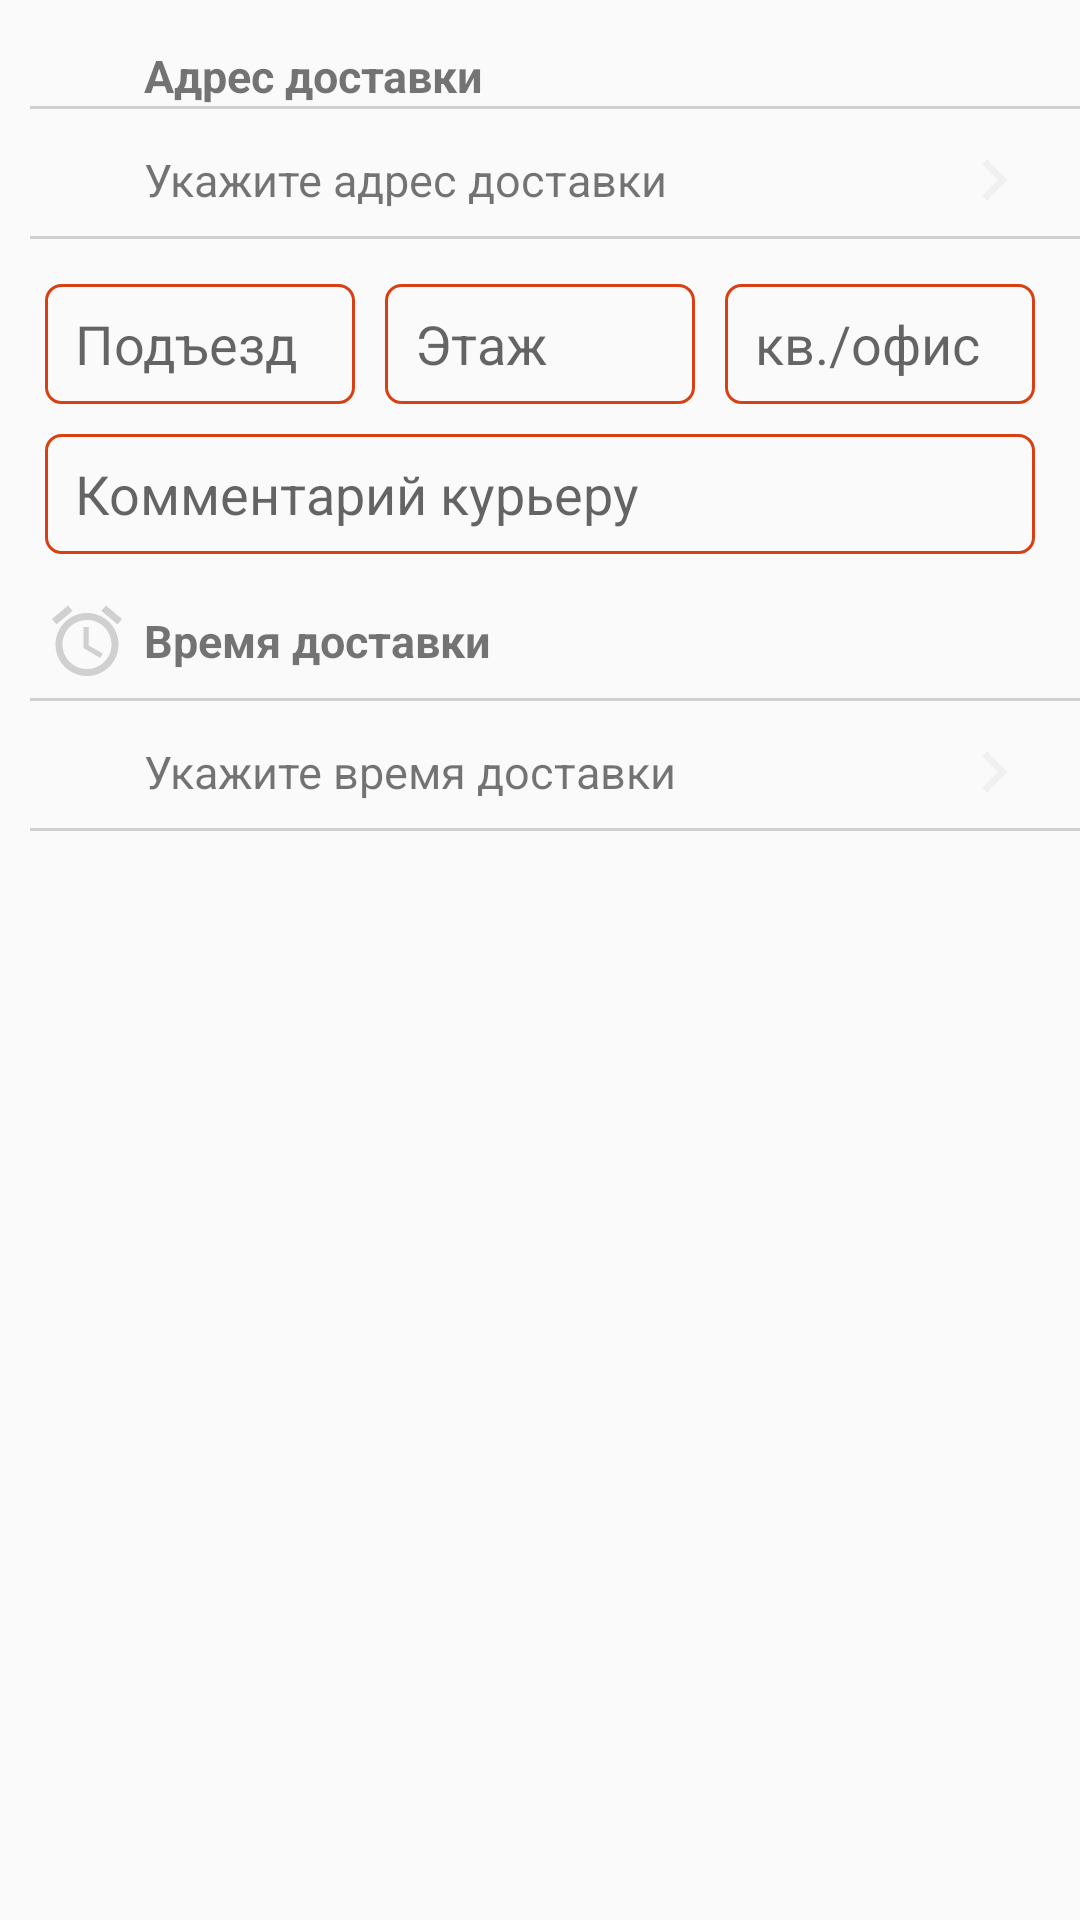

Screen size 1080x1920. Icon name, then its center in pixels as [x,y]:
clock lg: [87,641]
